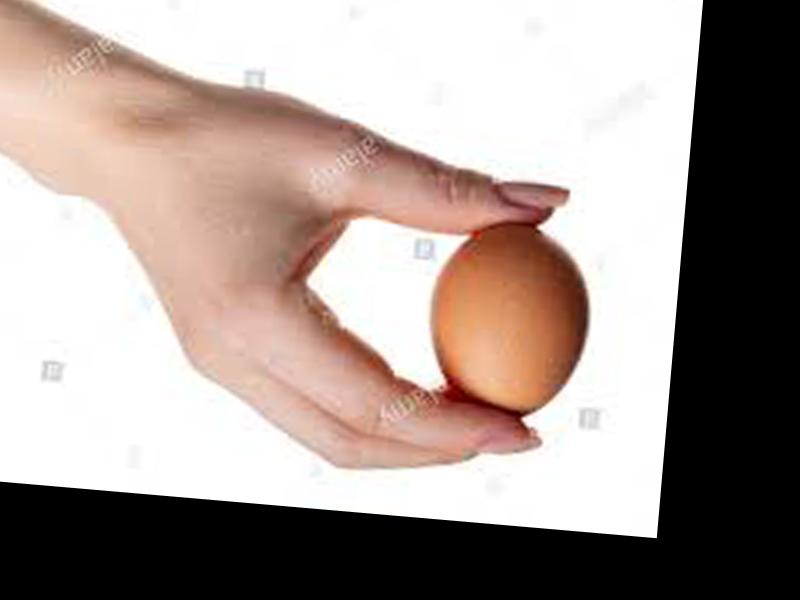Eggs: (415, 217, 597, 421)
